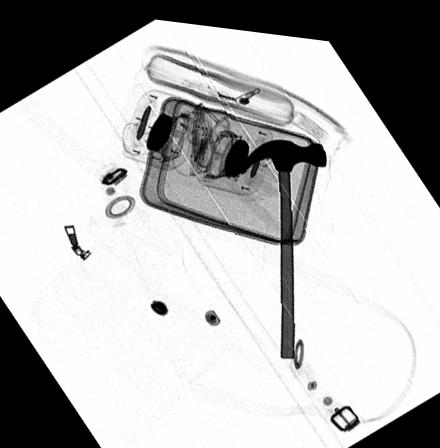Hammer: (227, 131, 327, 350)
